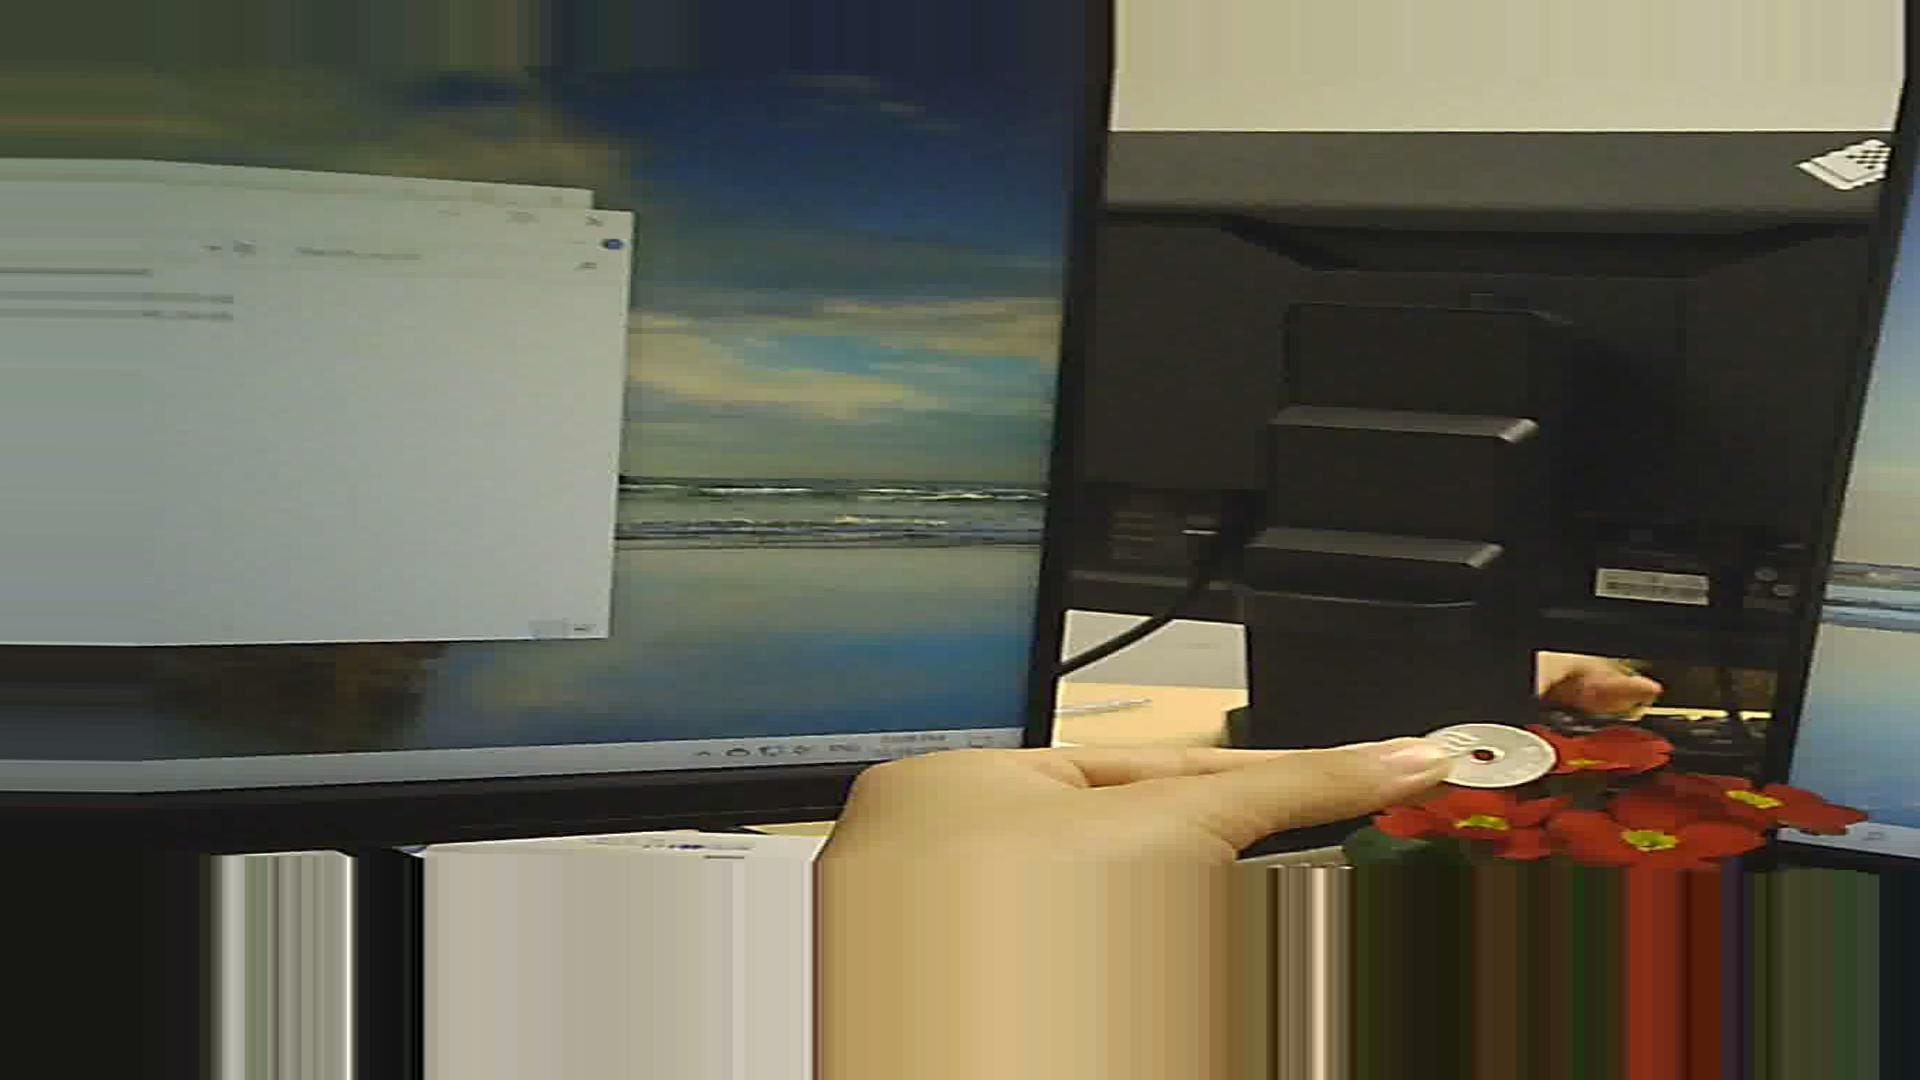50 Yen: (1416, 712, 1567, 798)
